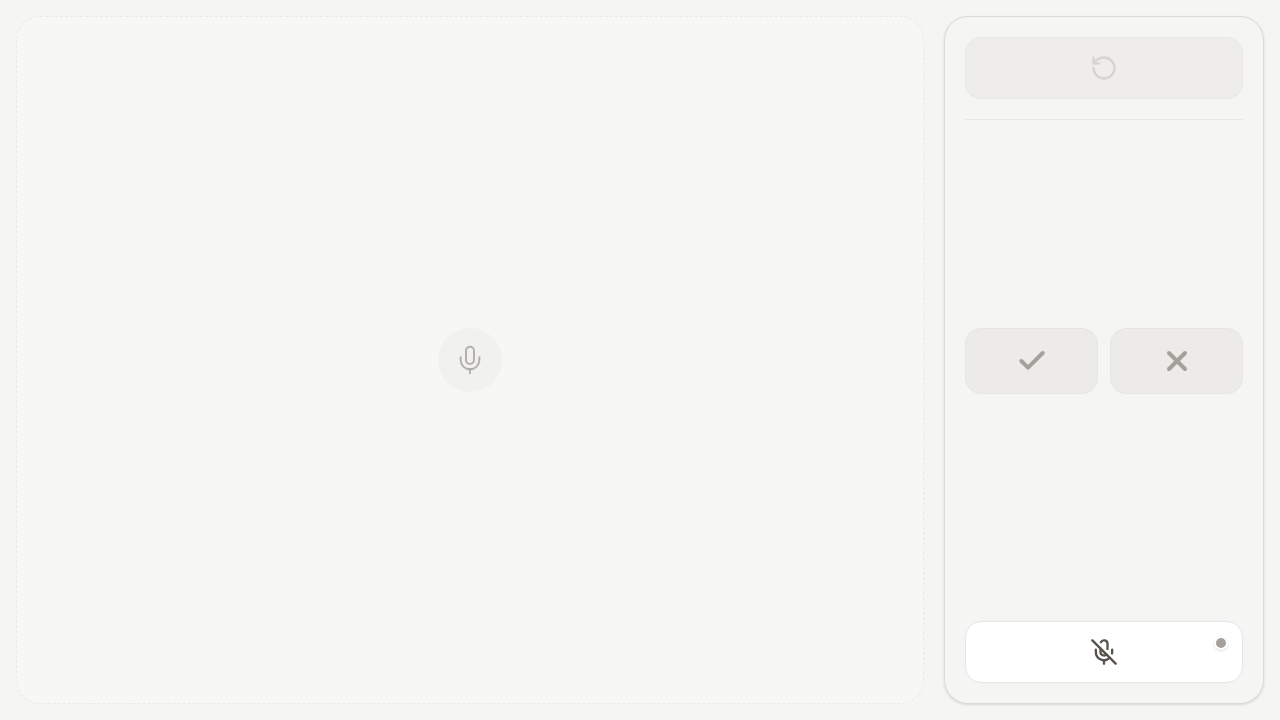
Test case: AacDisplay (Textlöst AAC-gränssnitt för Afasideltagare) › Dold diagnostikpanel och realtidslogg (TCK-006B) › öppnar diagnostikpanelen vid dubbelklick på statuspricken och stänger den via stängknapp
The width and height of the screenshot is (1280, 720).
Note: Dubbelklicka på statuspricken
Step 1. Double-click the button with test id "live-status-dot" → (1221, 643), box [1214, 636, 1228, 650]
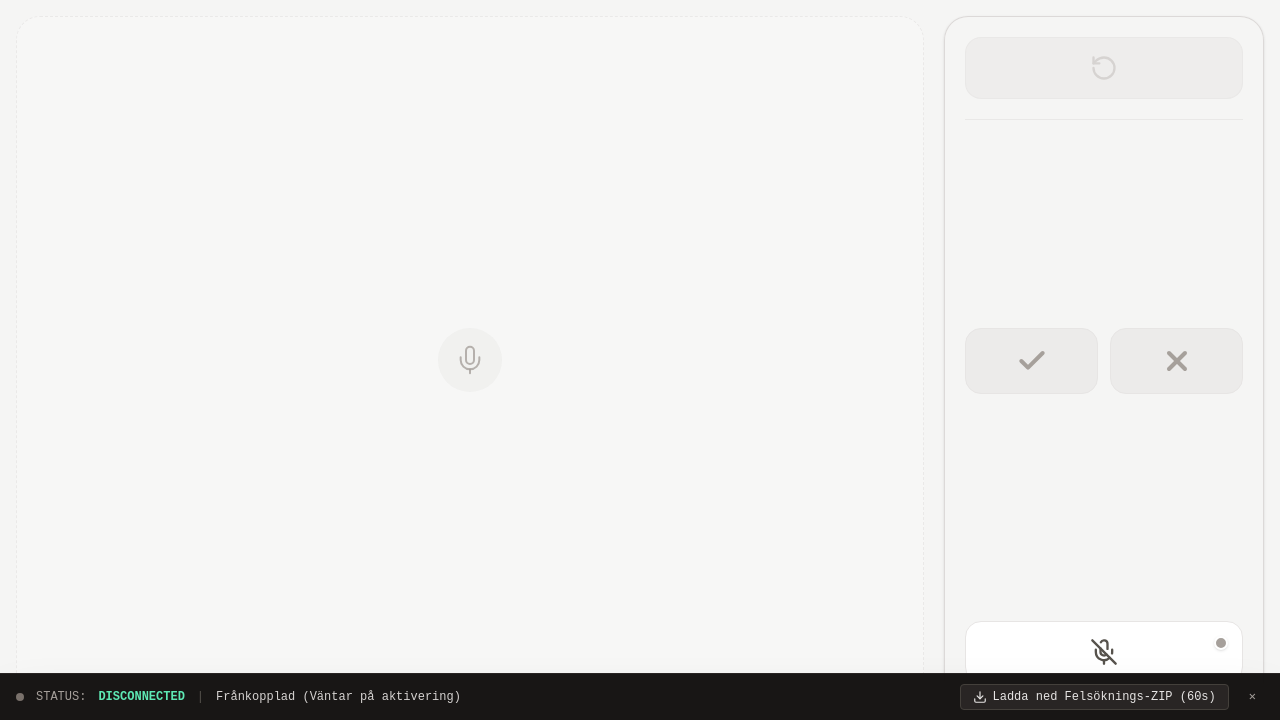
Check: the element with test id "diagnostics-panel" is shown, box [0, 673, 1279, 719]
Check: the text "Frånkopplad (Väntar på aktivering)" is shown, box [216, 689, 461, 705]
Check: the button with test id "download-diagnostics-zip" is shown, box [960, 684, 1229, 710]
Note: Stäng via stängknappen
Step 2. Click the button with test id "btn-close-diagnostics" → (1252, 697), box [1241, 687, 1264, 707]
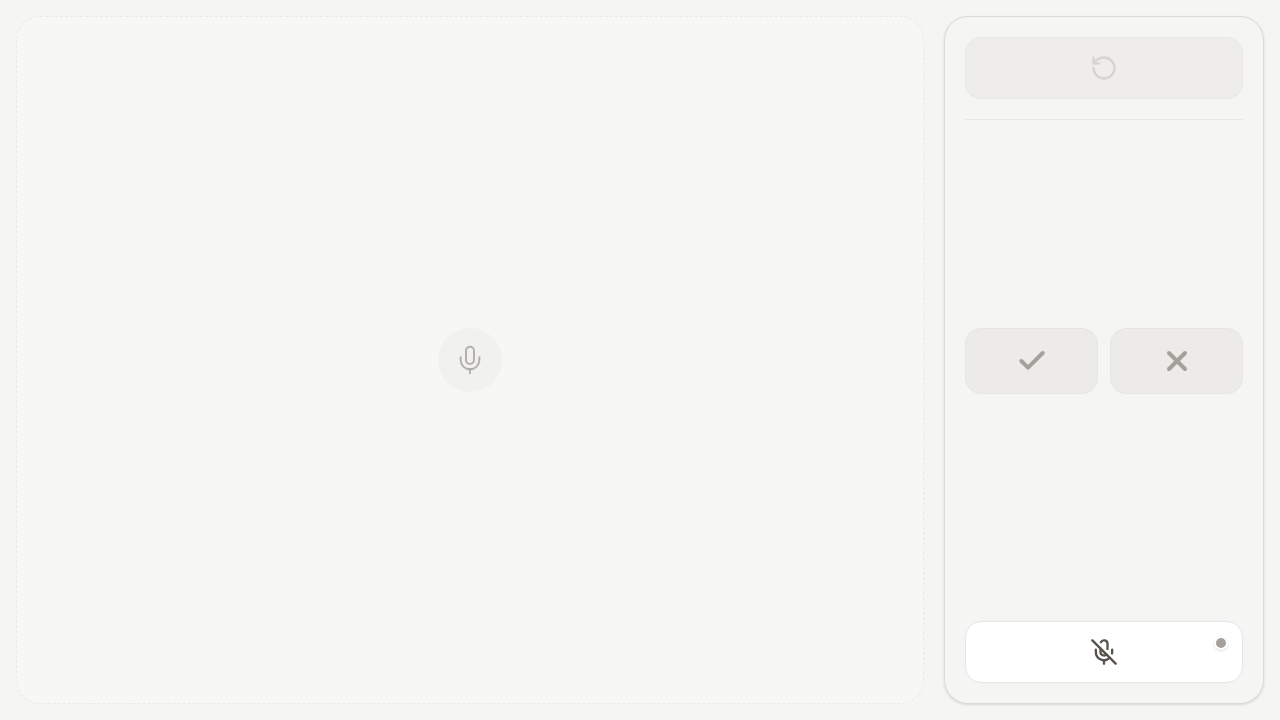
Check: the element with test id "diagnostics-panel" is gone
